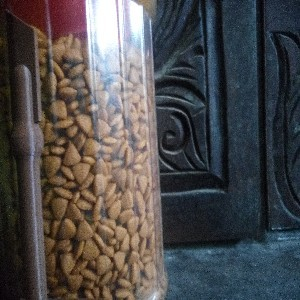cutter: (2, 5, 50, 300)
